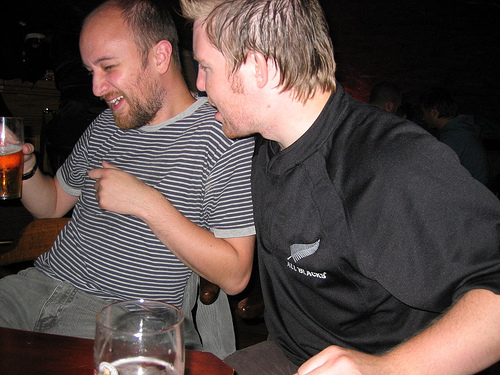without_mask: (188, 1, 300, 138), (78, 11, 179, 131)
